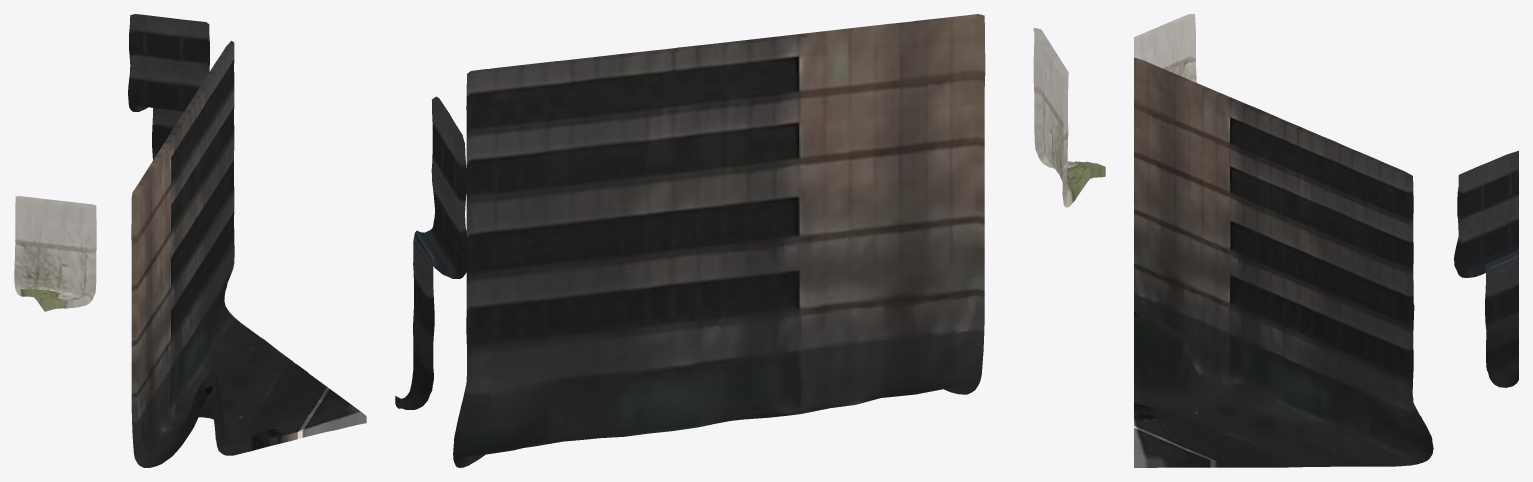
File: z20-167785-405228-h0-yup-uvflip-v3-world.glb
The picture shows the model from 3 angles, left to right: view 1: azimuth 30°, elevation 25°; view 2: azimuth 150°, elevation 25°; view 3: azimuth 270°, elevation 25°; orthographic projection. The views are drawn at different scales.
Bounding box in the file's own units: 30.16 × 25.4 × 30.32.
Materials: 1 (1 with a texture image).
